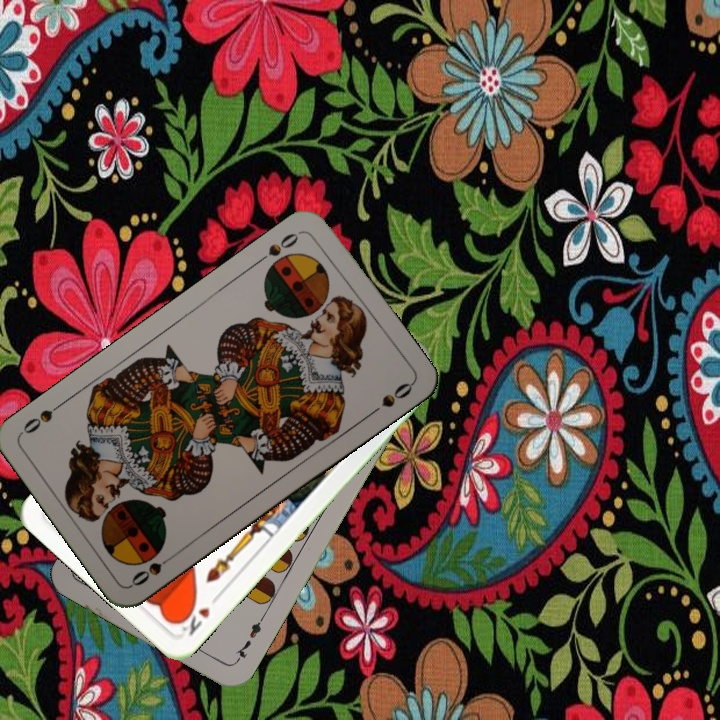E7: (231, 612, 267, 666)
HK: (174, 589, 224, 638)
SO: (126, 549, 180, 589), (253, 227, 305, 266)
